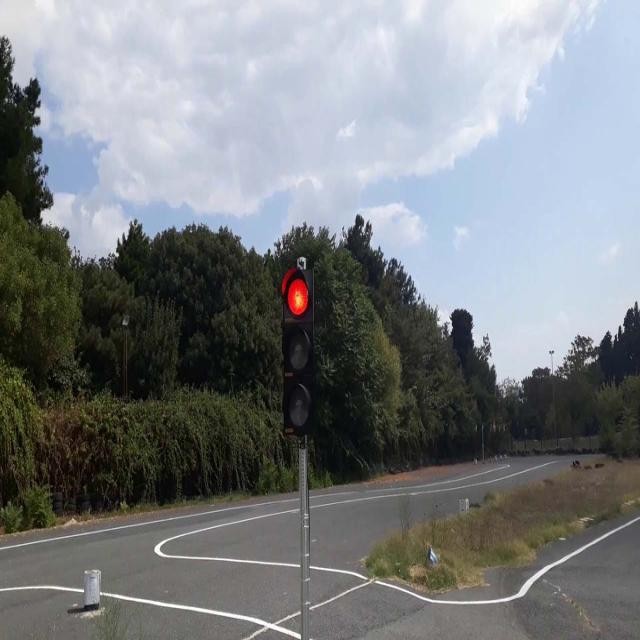kirmizi: (280, 265, 314, 435)
